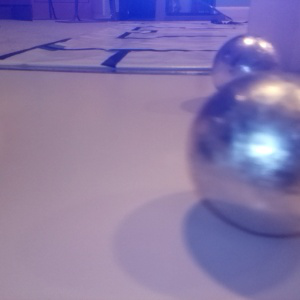alive_ball: (188, 71, 300, 235), (212, 34, 283, 101)
